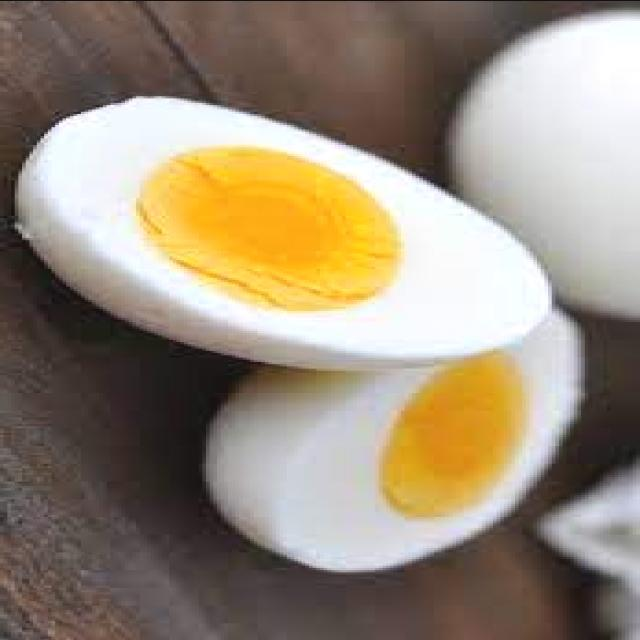telur rebus: (15, 93, 552, 370), (202, 306, 585, 574)
